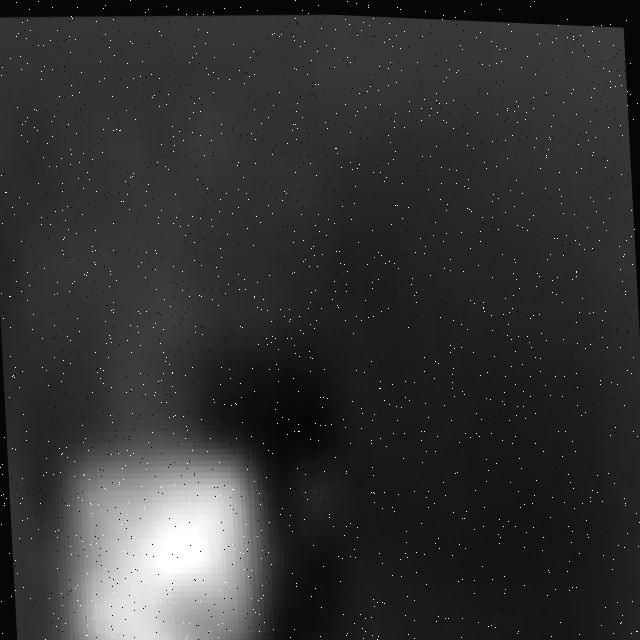person: (43, 364, 315, 640)
